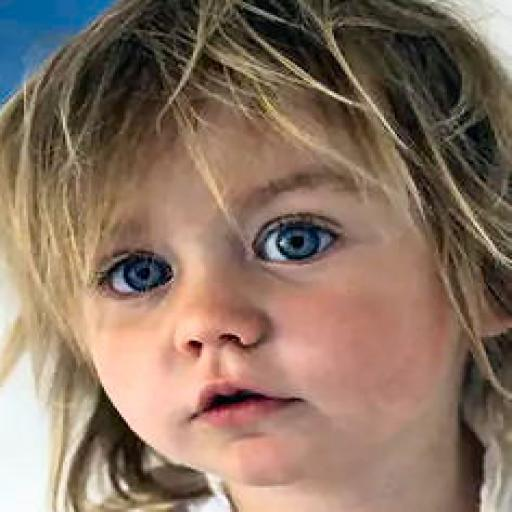Autism: (25, 18, 512, 505)
